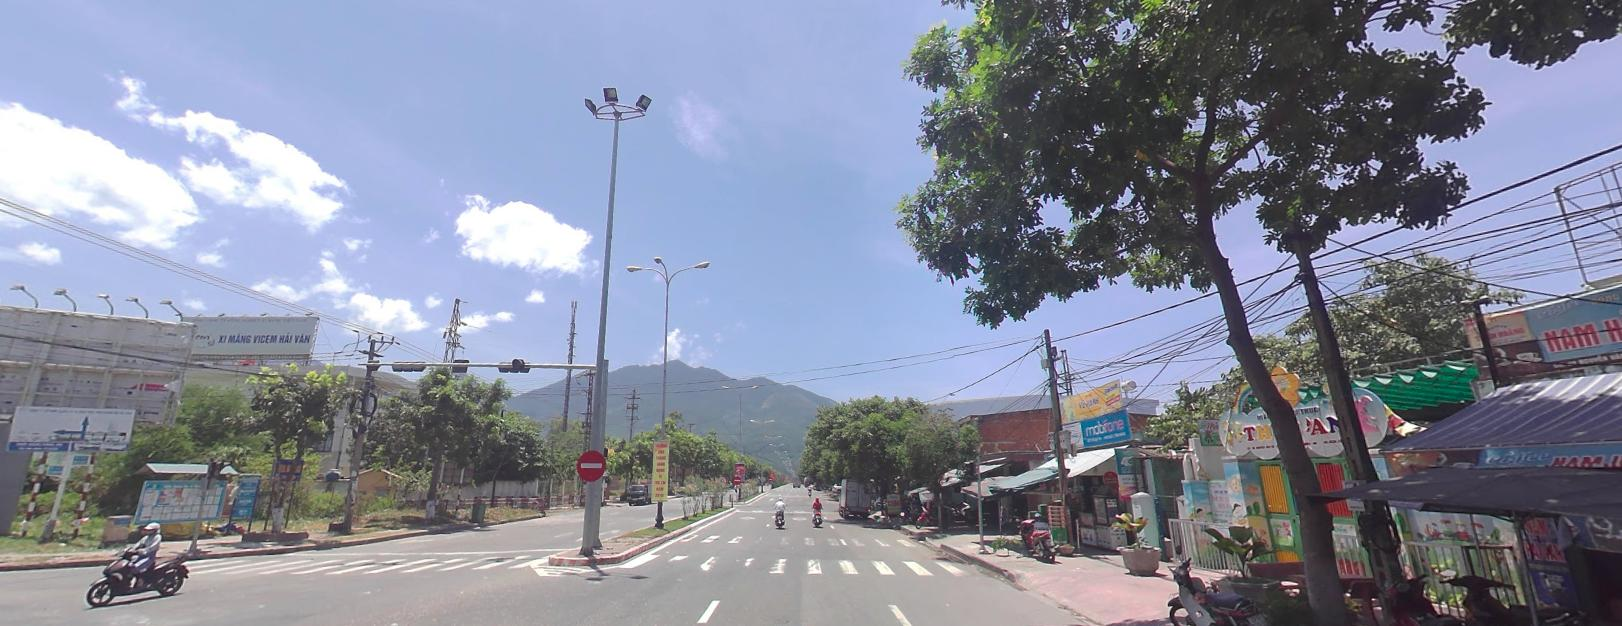Cam nguoc chieu: (577, 447, 607, 481), (733, 475, 741, 483)
